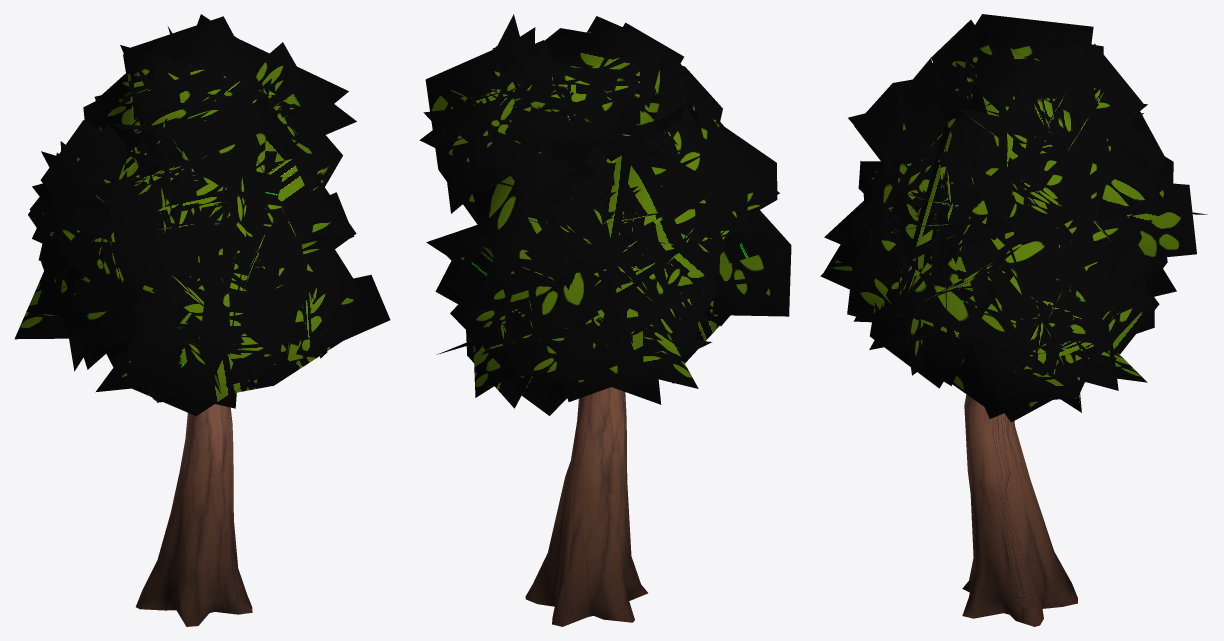
Rendered from CommonTree_1.gltf.
The picture shows the model from 3 angles, left to right: view 1: azimuth 30°, elevation 25°; view 2: azimuth 150°, elevation 25°; view 3: azimuth 270°, elevation 25°; orthographic projection. The views are drawn at different scales.
Parts seen in each view (by area): view 1: CommonTree_1; view 2: CommonTree_1; view 3: CommonTree_1.
Boxes of the visible parts, box(x1,y1,x2,y2) form: CommonTree_1: box(14, 14, 390, 626); CommonTree_1: box(419, 14, 791, 626); CommonTree_1: box(820, 14, 1207, 626).
Bounding box in the file's own units: 4.23 × 7.16 × 4.47.
2 materials, 2 textured.
